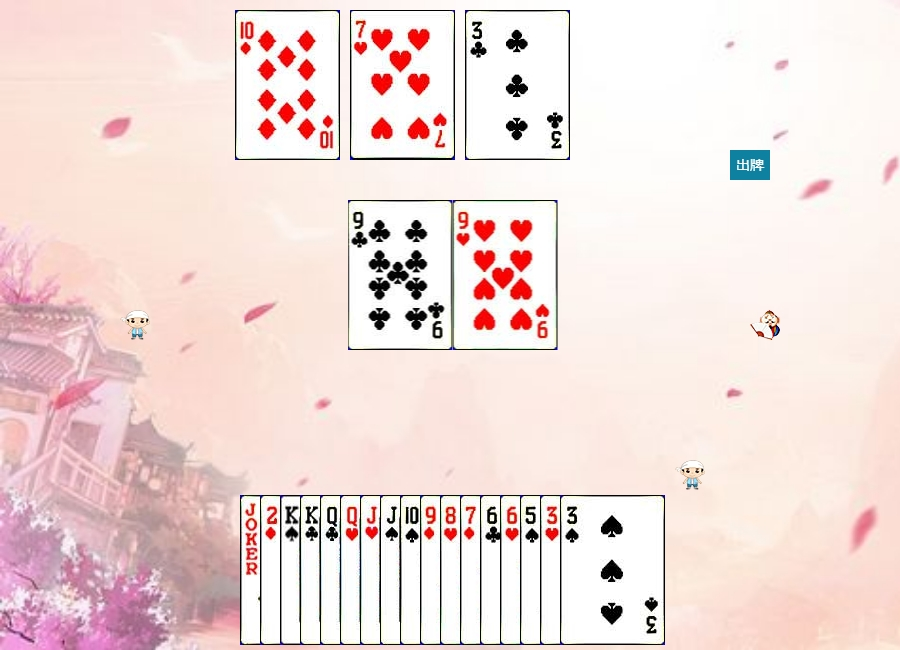10~1: (235, 10, 340, 160)
10~4: (400, 495, 505, 645)
11~3: (360, 495, 465, 645)
11~4: (380, 495, 485, 645)
12~2: (320, 495, 425, 645)
12~3: (340, 495, 445, 645)
13~2: (300, 495, 405, 645)
13~4: (280, 495, 385, 645)
15~1: (260, 495, 365, 645)
18~4: (240, 495, 345, 645)
3~2: (465, 10, 570, 160)
3~3: (540, 495, 645, 645)
3~4: (560, 495, 665, 645)
5~4: (520, 495, 625, 645)
6~2: (480, 495, 585, 645)
6~3: (500, 495, 605, 645)
7~1: (460, 495, 565, 645)
7~3: (350, 10, 455, 160)
8~3: (440, 495, 545, 645)
9~1: (420, 495, 525, 645)
9~2: (348, 200, 453, 350)
9~3: (453, 200, 558, 350)
